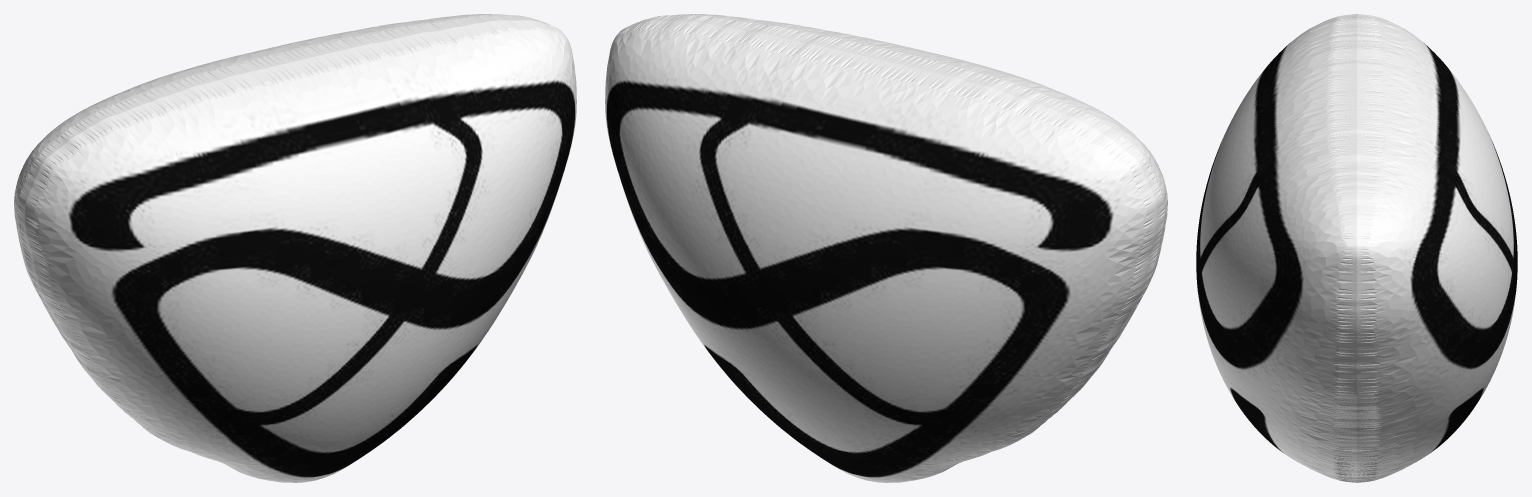
File: asset.glb
The picture shows the model from 3 angles, left to right: view 1: azimuth 30°, elevation 25°; view 2: azimuth 150°, elevation 25°; view 3: azimuth 270°, elevation 25°; orthographic projection. The views are drawn at different scales.
Bounding box in the file's own units: 0.0685 × 0.05 × 0.0381.
1 material, 1 textured.
